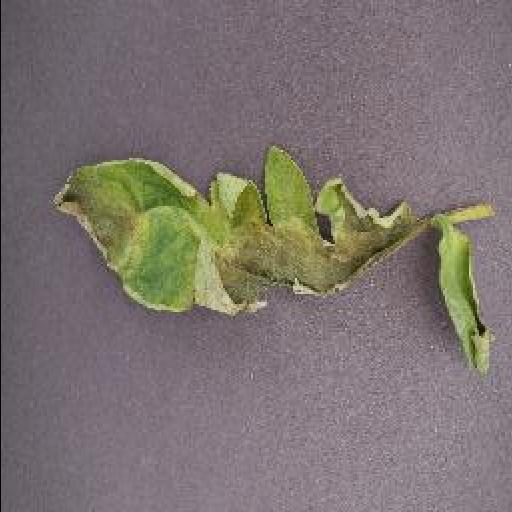disease_tomato: (56, 142, 428, 320), (436, 230, 494, 376)
